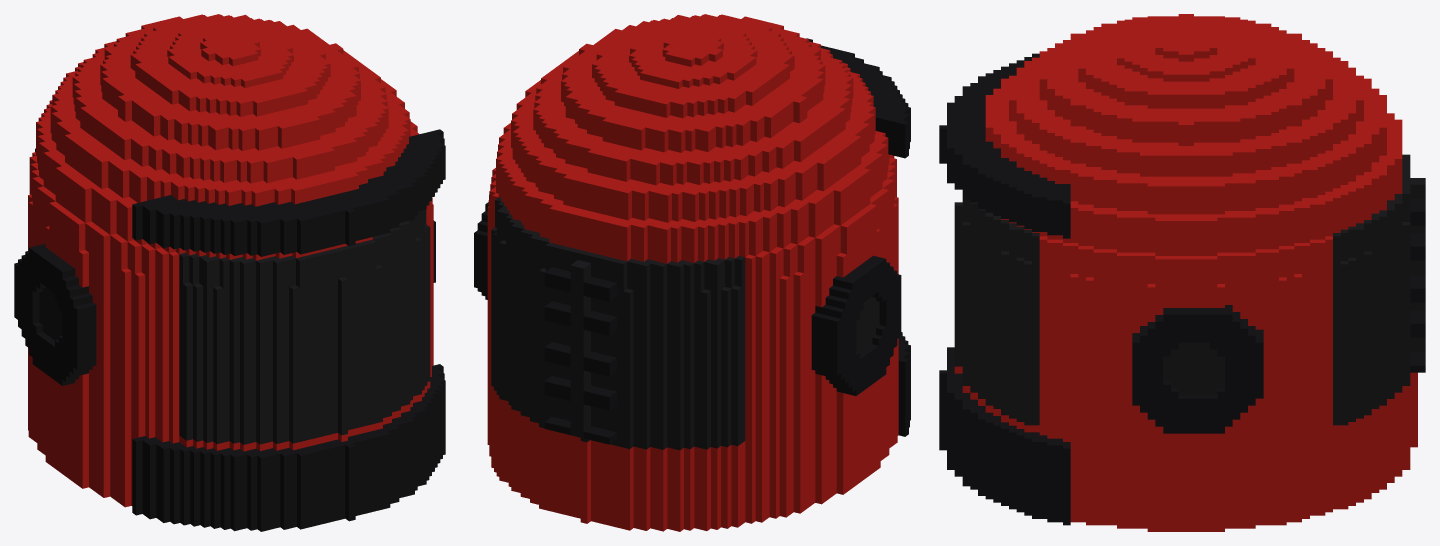
Rendered from headgear.glb.
3 views of the same model, side by side, from view 1: azimuth 30°, elevation 25°; view 2: azimuth 150°, elevation 25°; view 3: azimuth 270°, elevation 25° (orthographic). The views are drawn at different scales.
Visible parts, largest first — view 1: headgear:compound; view 2: headgear:compound; view 3: headgear:compound.
Boxes of the visible parts, <box> form: headgear:compound: <box>14,14,445,531</box>; headgear:compound: <box>474,14,910,531</box>; headgear:compound: <box>939,14,1425,531</box>.
Bounding box in the file's own units: 0.224 × 0.232 × 0.252.
